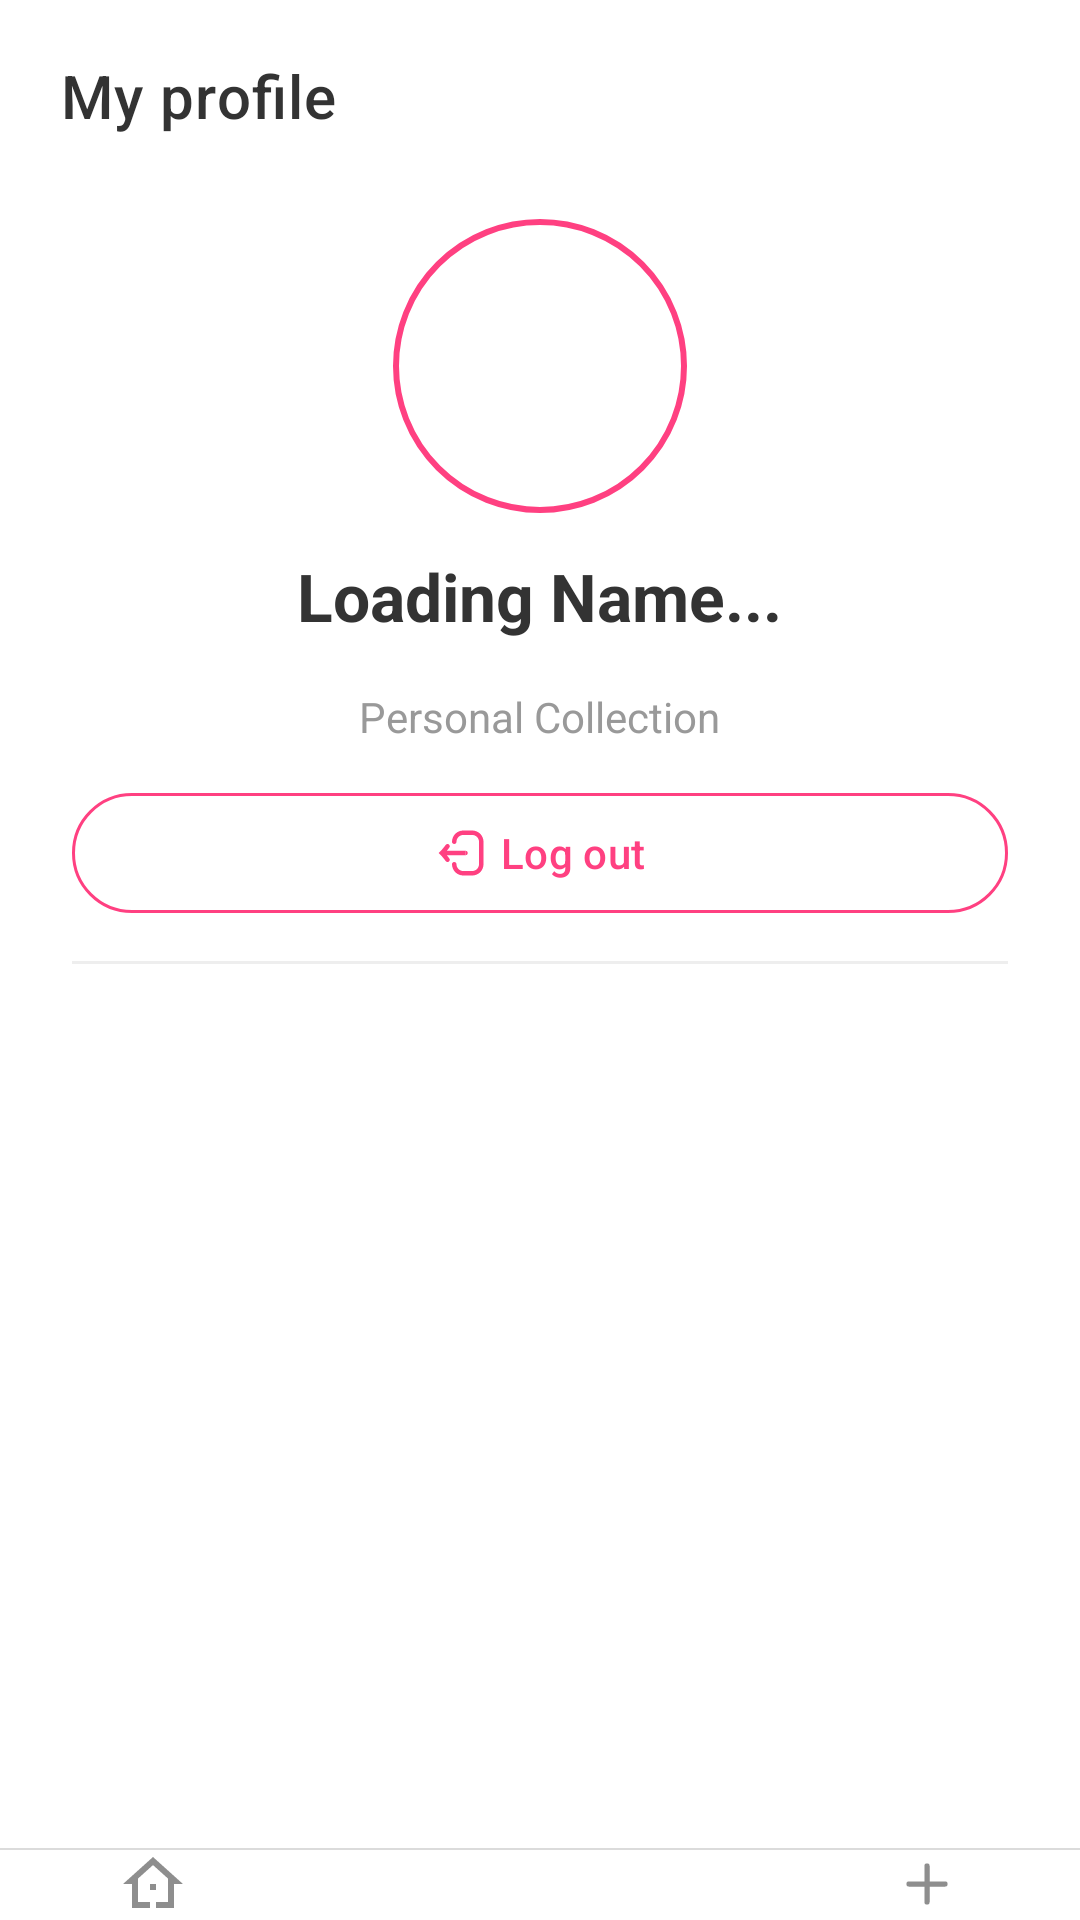

Point at icon controls on the screen. Image size 1080px×1920px, points as [x,y].
MY FEED: [153,1882]
